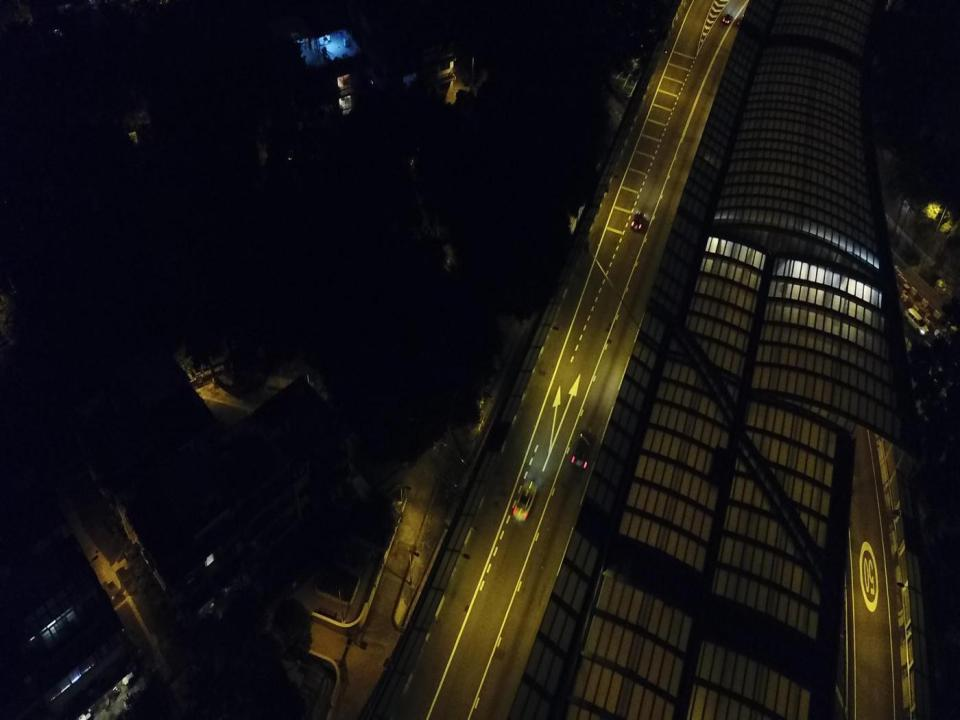car: (512, 480, 538, 522), (571, 429, 593, 469), (629, 210, 646, 231), (722, 12, 733, 24)
van: (903, 307, 929, 336)
